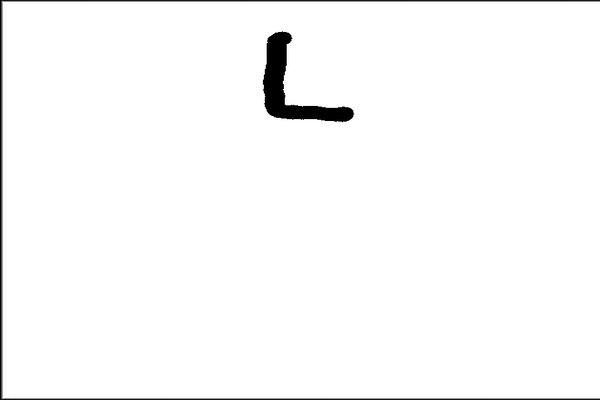L: (253, 25, 365, 128)
